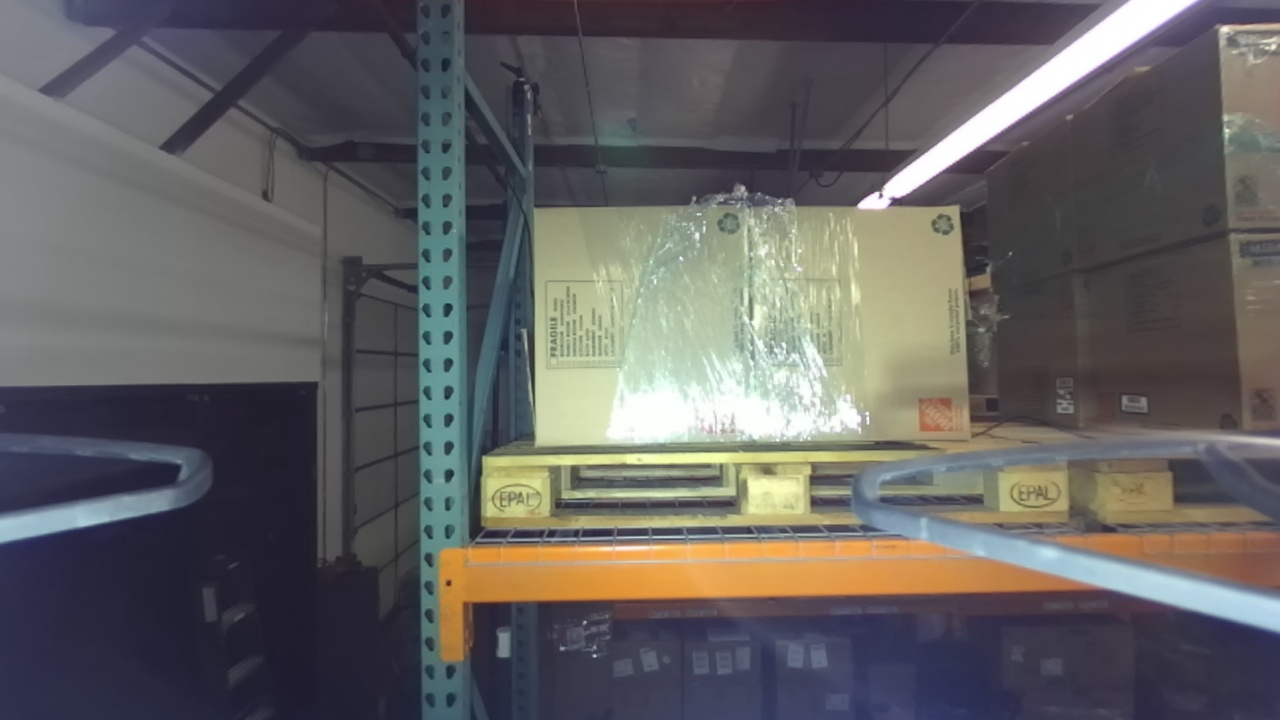box: (728, 193, 1001, 459), (520, 197, 775, 448)
